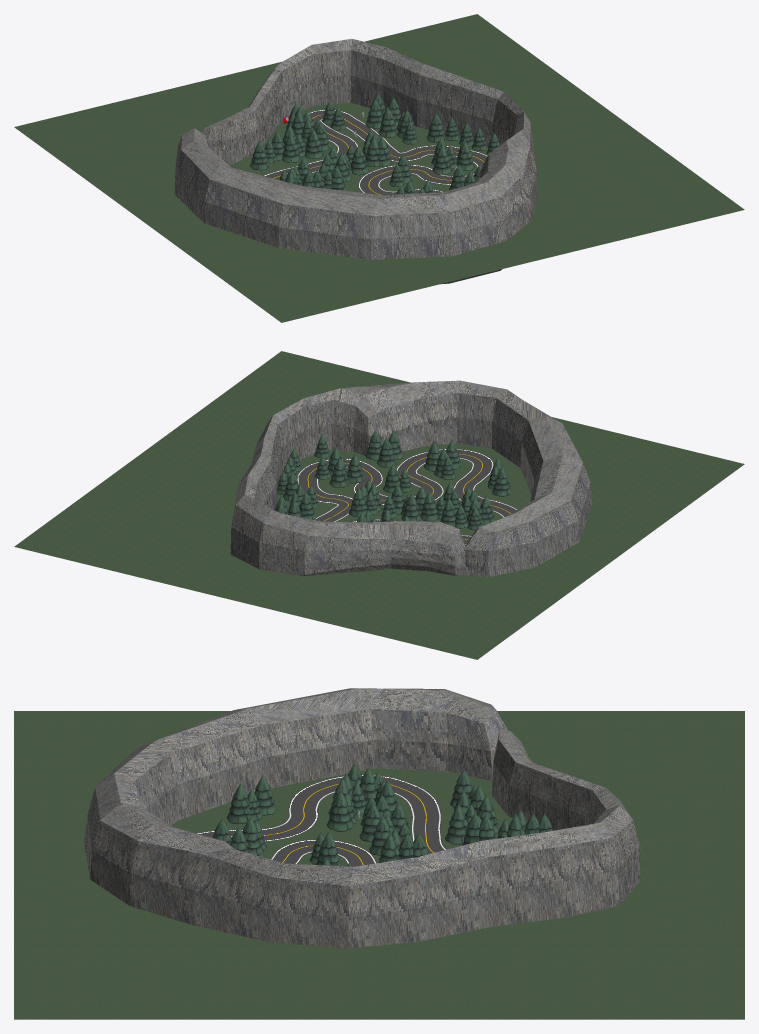
The picture shows the model from 3 angles, top to bottom: view 1: azimuth 30°, elevation 25°; view 2: azimuth 150°, elevation 25°; view 3: azimuth 270°, elevation 25°; orthographic projection. The views are drawn at different scales.
Parts seen in each view (by area): view 1: Plane.001, Cube.002, Plane; view 2: Plane.001, Cube.002, Plane; view 3: Plane.001, Cube.002, Plane, PineTree_001.018, PineTree_001.052, PineTree_001.010, PineTree_001.053.
Part boxes in pixels (<box>): Plane.001: <box>14,14,744,322</box>; Cube.002: <box>174,38,537,284</box>; Plane: <box>263,109,487,194</box>; Plane.001: <box>14,351,744,659</box>; Cube.002: <box>230,380,592,577</box>; Plane: <box>297,449,517,544</box>; Plane.001: <box>14,711,744,1019</box>; Cube.002: <box>83,688,640,948</box>; Plane: <box>196,775,446,866</box>; PineTree_001.018: <box>327,790,354,831</box>; PineTree_001.052: <box>227,783,250,823</box>; PineTree_001.010: <box>445,804,468,844</box>; PineTree_001.053: <box>254,775,276,815</box>.
Bounding box in the file's own units: 640 × 126 × 640.
92 materials, 83 textured.
